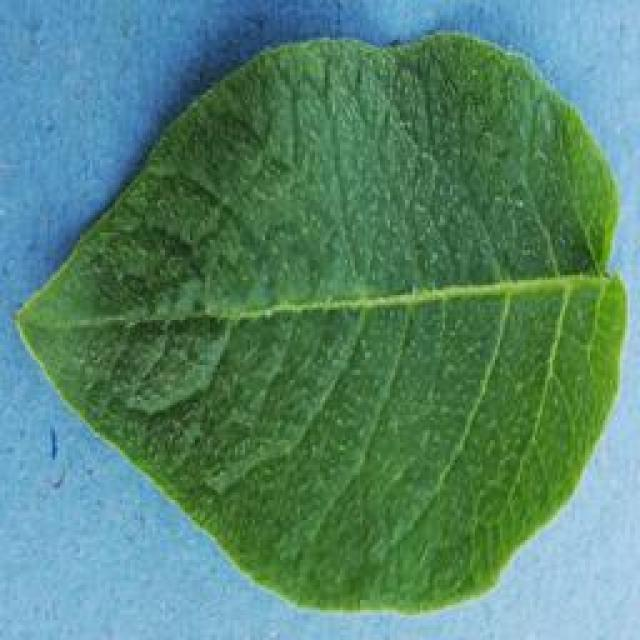Potato_Healthy: (16, 32, 621, 615)
